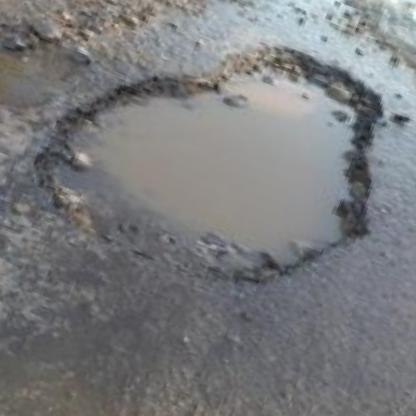pothole: (14, 0, 416, 336)
